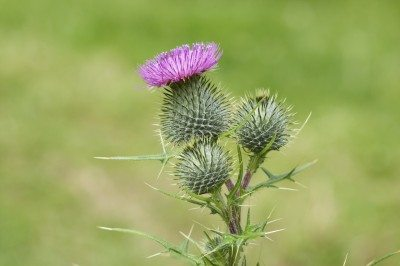bull thistle: (136, 38, 236, 144)
